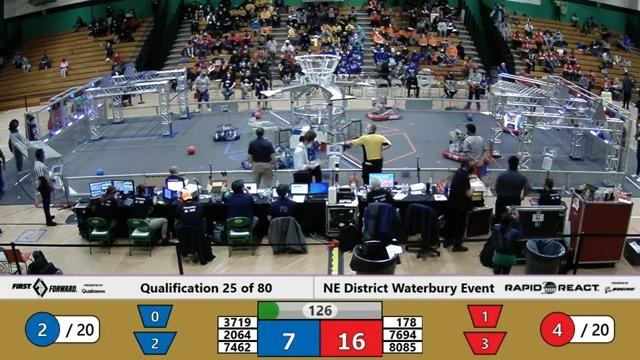robot: (443, 122, 492, 167), (364, 81, 405, 121), (274, 124, 309, 168), (244, 127, 275, 172), (213, 101, 241, 141), (502, 102, 532, 137)
